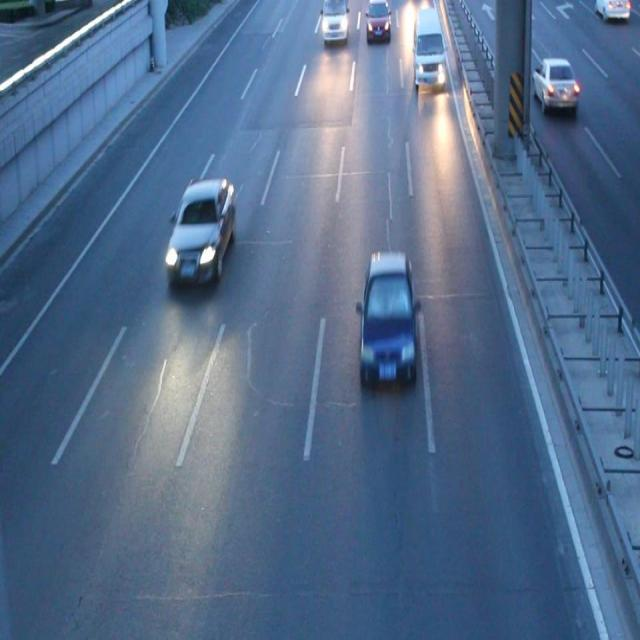car: (355, 253, 419, 389), (162, 177, 235, 288), (365, 1, 390, 40)
truck: (413, 13, 444, 87), (321, 1, 347, 40)
